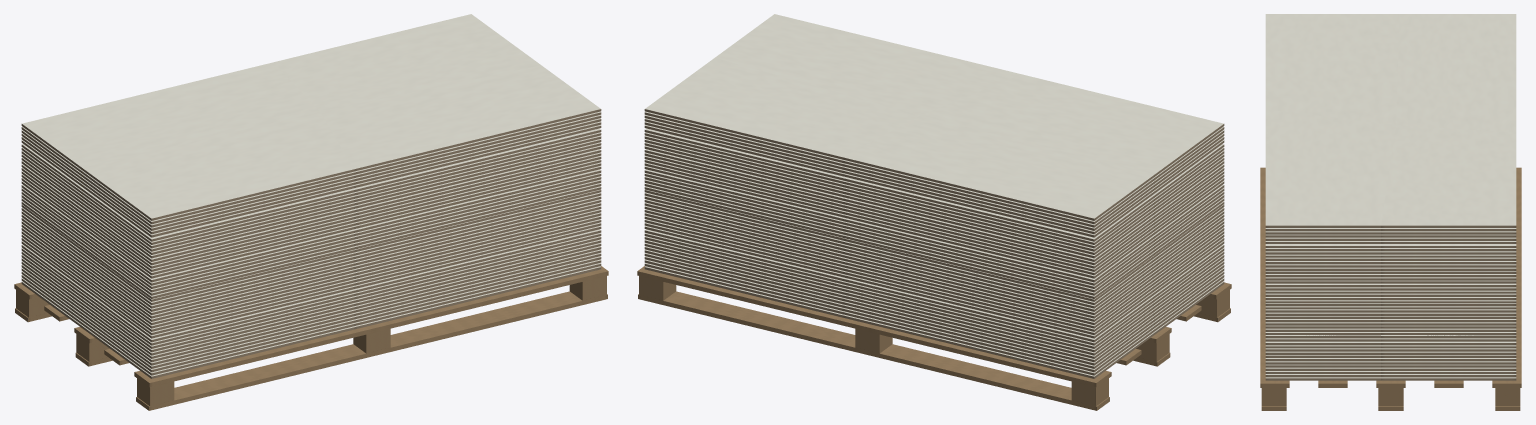
Rendered from 15_pallet_drywall_flat_full.glb.
3 views of the same model, side by side, from view 1: azimuth 30°, elevation 25°; view 2: azimuth 150°, elevation 25°; view 3: azimuth 270°, elevation 25° (orthographic). The views are drawn at different scales.
Visible parts, largest first — view 1: Body.007, Base_Pallet, Body.006, Body.004, Body.001, Body.005, Body.002, Body, Body.003; view 2: Body.007, Base_Pallet, Body.006, Body.004, Body.001, Body.005, Body.002, Body, Body.003; view 3: Body.007, Base_Pallet, Body.006, Body.001, Body.004, Body, Body.002, Body.005, Body.003.
Part boxes in pixels (<box>): Body.007: <box>21,14,601,237</box>; Base_Pallet: <box>14,266,608,410</box>; Body.006: <box>21,128,601,258</box>; Body.004: <box>21,169,601,298</box>; Body.001: <box>21,229,601,358</box>; Body.005: <box>21,149,601,278</box>; Body.002: <box>21,209,601,338</box>; Body: <box>21,249,601,378</box>; Body.003: <box>21,189,601,318</box>; Body.007: <box>644,14,1224,237</box>; Base_Pallet: <box>637,266,1231,410</box>; Body.006: <box>644,128,1224,258</box>; Body.004: <box>644,169,1224,298</box>; Body.001: <box>644,229,1224,358</box>; Body.005: <box>644,149,1224,278</box>; Body.002: <box>644,209,1224,338</box>; Body: <box>644,249,1224,378</box>; Body.003: <box>644,189,1224,318</box>; Body.007: <box>1265,14,1516,243</box>; Base_Pallet: <box>1260,167,1521,410</box>; Body.006: <box>1265,244,1516,264</box>; Body.001: <box>1265,341,1516,361</box>; Body.004: <box>1265,283,1516,303</box>; Body: <box>1265,361,1516,380</box>; Body.002: <box>1265,322,1516,341</box>; Body.005: <box>1265,264,1516,283</box>; Body.003: <box>1265,303,1516,322</box>.
Size of what is drawn, in the model's own units: 2.45 by 0.9669 by 1.25.
Materials: 8 (8 with a texture image).
